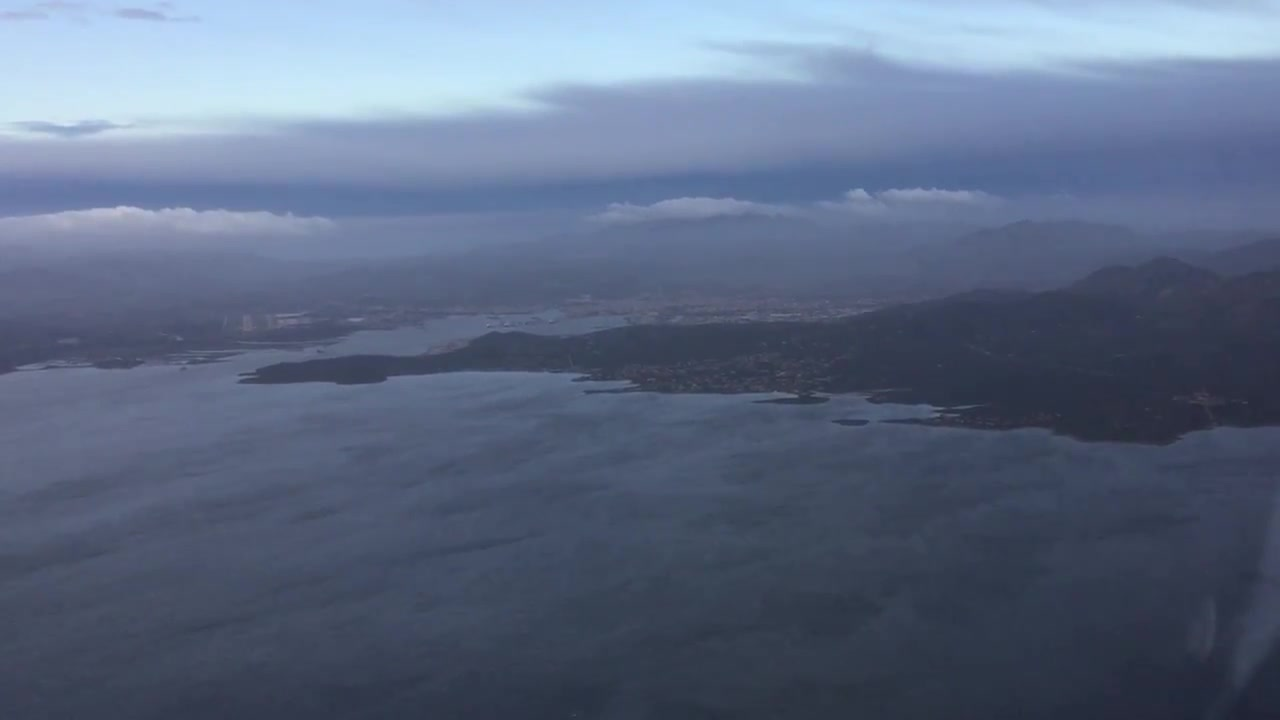runway: (241, 314, 256, 334)
